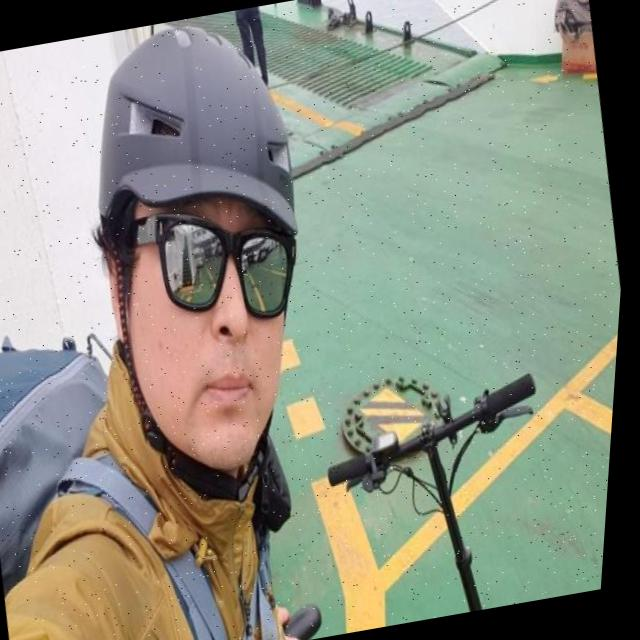helmet: (51, 8, 363, 520)
